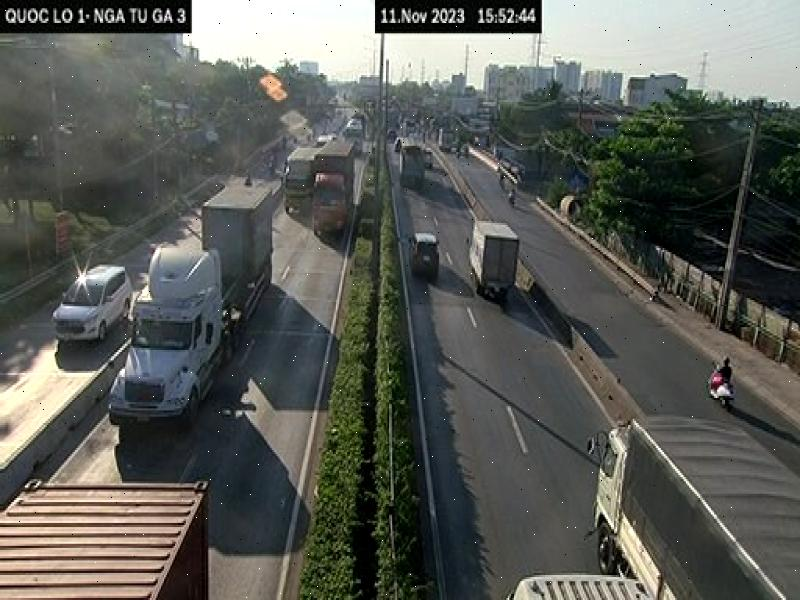truck: (111, 188, 273, 425), (590, 417, 800, 598), (469, 216, 520, 304), (311, 136, 356, 235), (282, 146, 312, 214)
